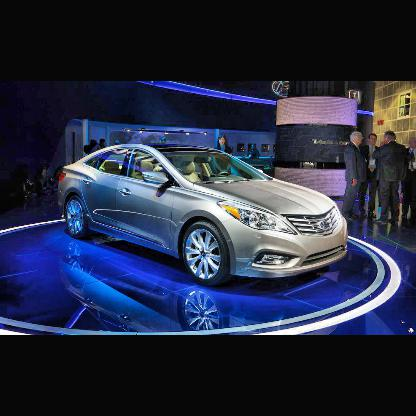Hyundai Azera Sedan 2012: (58, 143, 349, 288)
